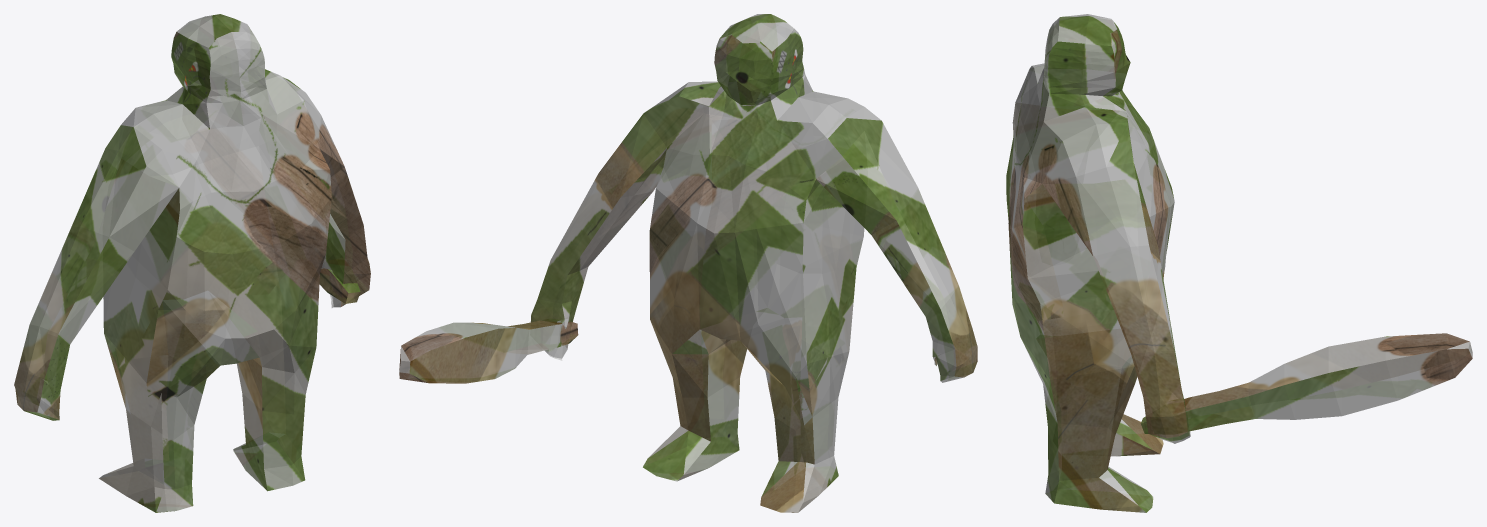
Rendered from Enemigo226.obj.
The picture shows the model from 3 angles, left to right: view 1: azimuth 30°, elevation 25°; view 2: azimuth 150°, elevation 25°; view 3: azimuth 270°, elevation 25°; orthographic projection. The views are drawn at different scales.
Visible parts, largest first — view 1: Cube; view 2: Cube; view 3: Cube.
Boxes of the visible parts, x1,y1,x2,y2 form: Cube: [14, 14, 370, 512]; Cube: [399, 14, 977, 512]; Cube: [1006, 14, 1472, 512].
Bounding box in the file's own units: 2.41 × 2.71 × 2.49.
1 material, 1 textured.
